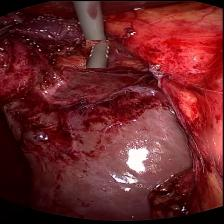Irrigator: (86, 39, 115, 67)
